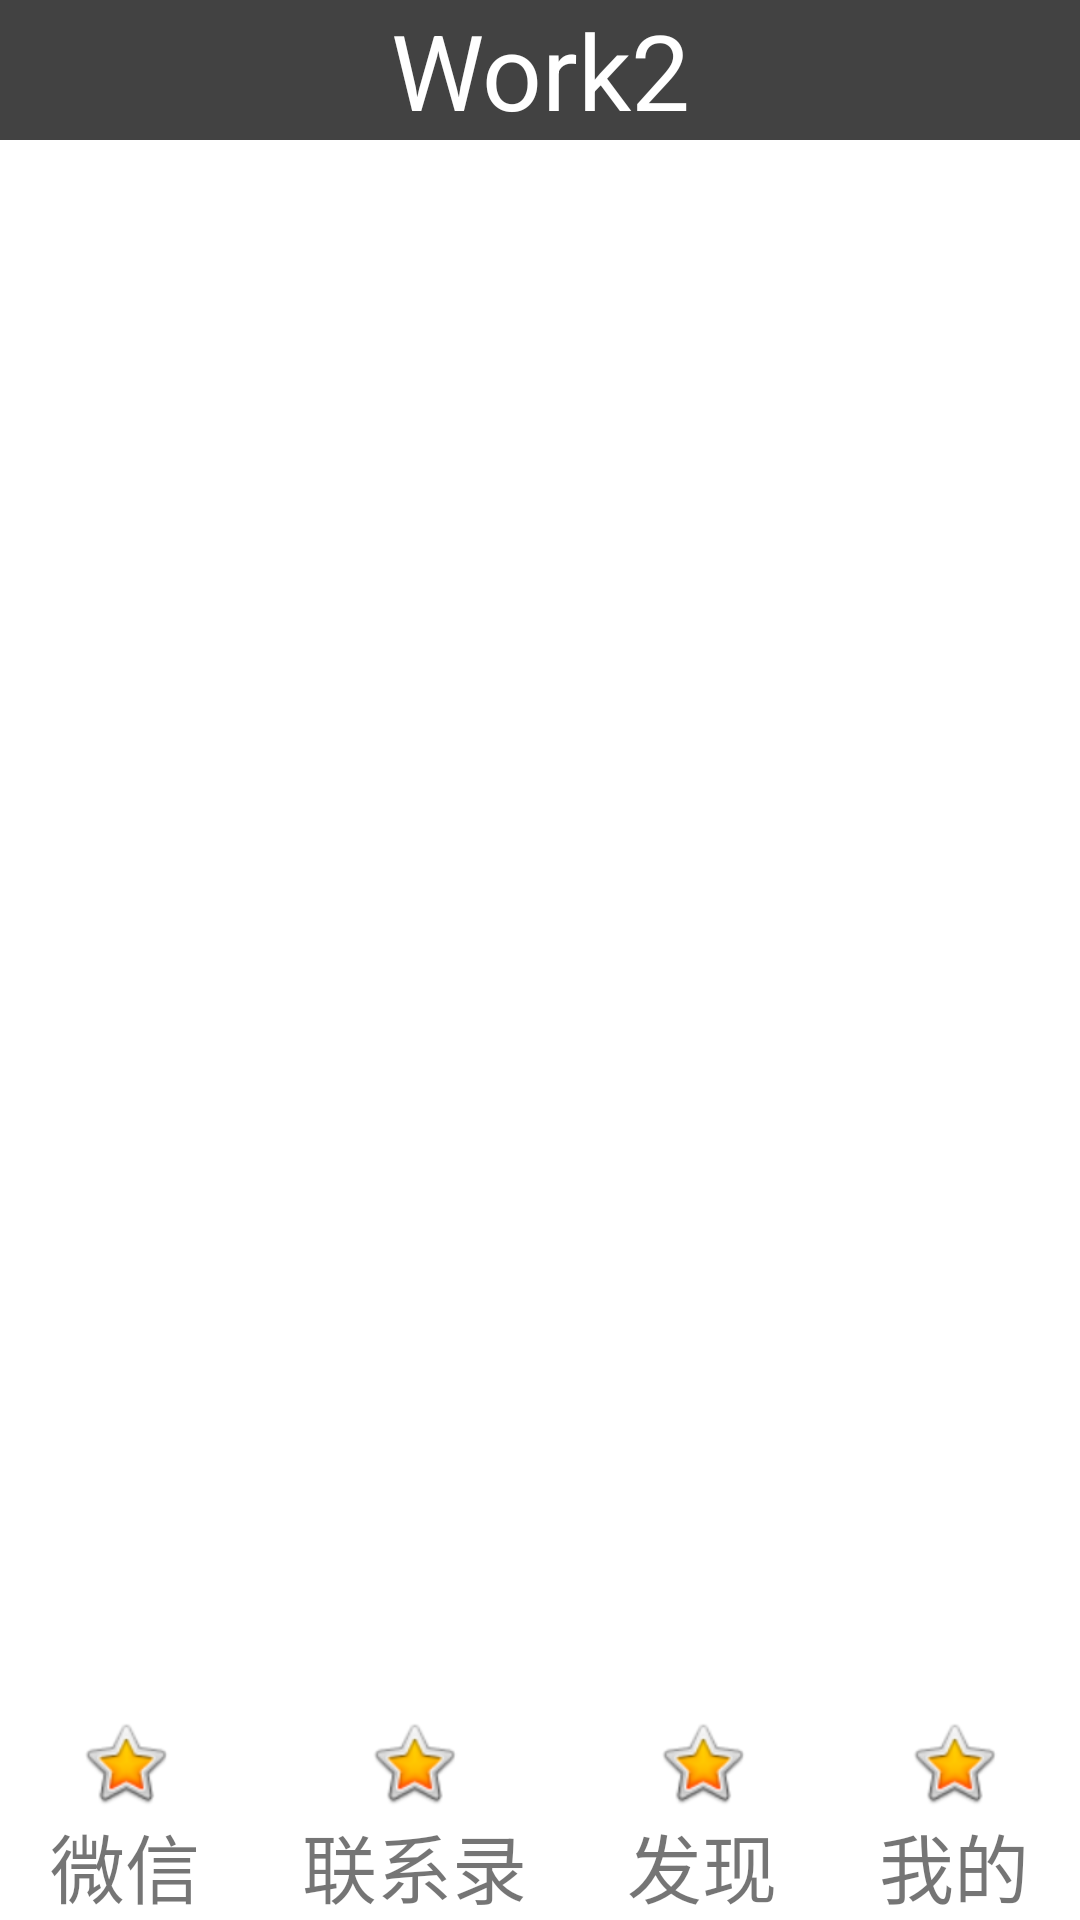

Screen size 1080w x 1920h. Icon name, then its center in pixels as [x,y]:
star on: [126,1764], [415,1764], [703,1764], [955,1764]
